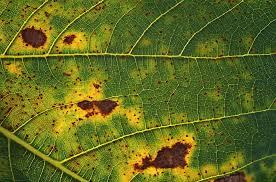leaf_spot: (20, 18, 246, 177)
